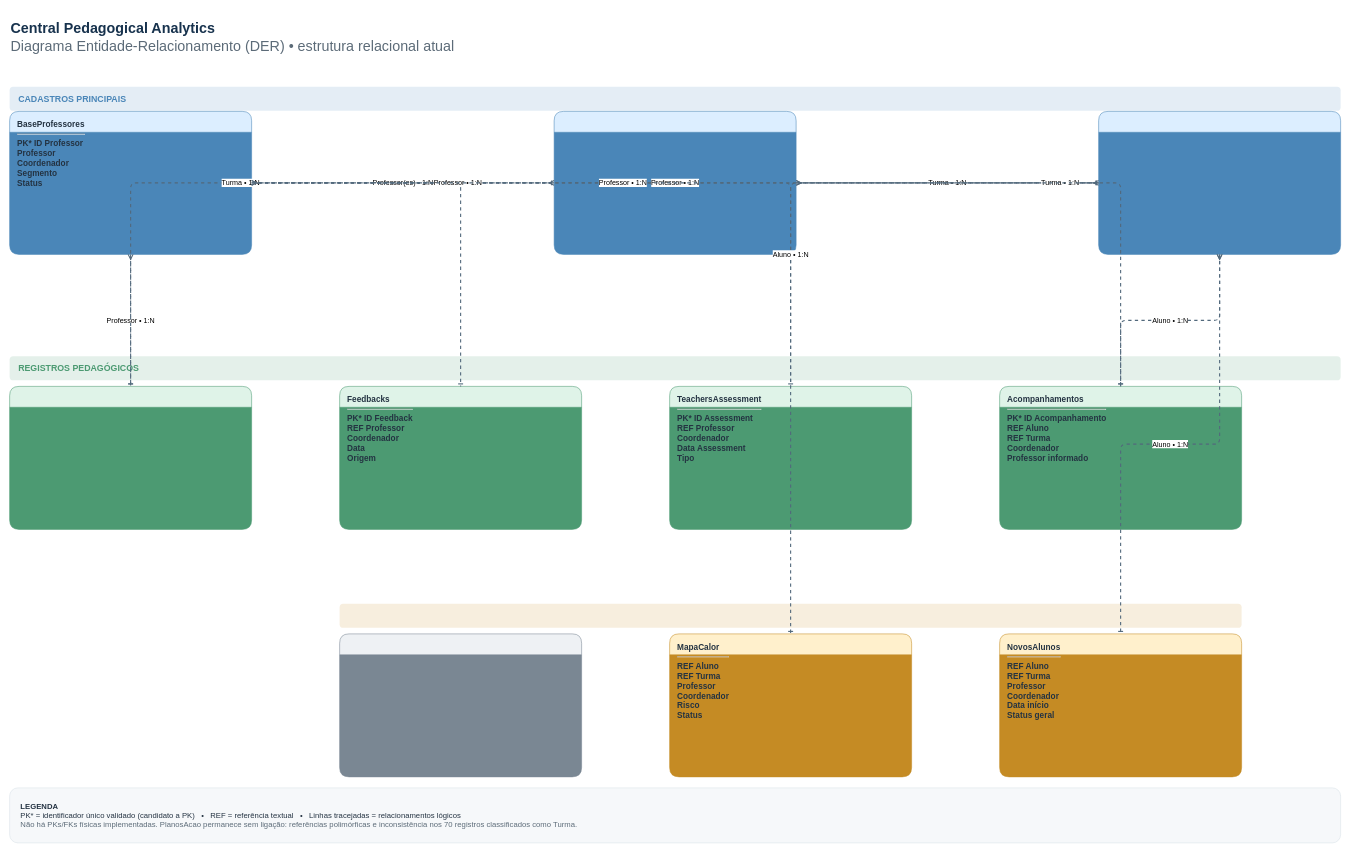
Some shapes in this 1350 by 853 pixel diagram are drawn without their labels. The centre of each missing label's shape, as x and y in pixels:
ACOMPANHAMENTO DE ALUNOS E PLANOS: the point at 790,615
BaseAlunos PK* ID Aluno Aluno Turma Professor Coordenador Data entrada: the point at 1219,182
BaseTurmas PK* ID Turma Turma Coordenador Professor(es) Segmento Status: the point at 675,182
ObservacoesAula PK* ID Observação REF Professor REF Turma Coordenador Data Foco: the point at 130,457
PlanosAcao PK* ID Plano ID Área Professor/Aluno Coordenador: the point at 460,705
